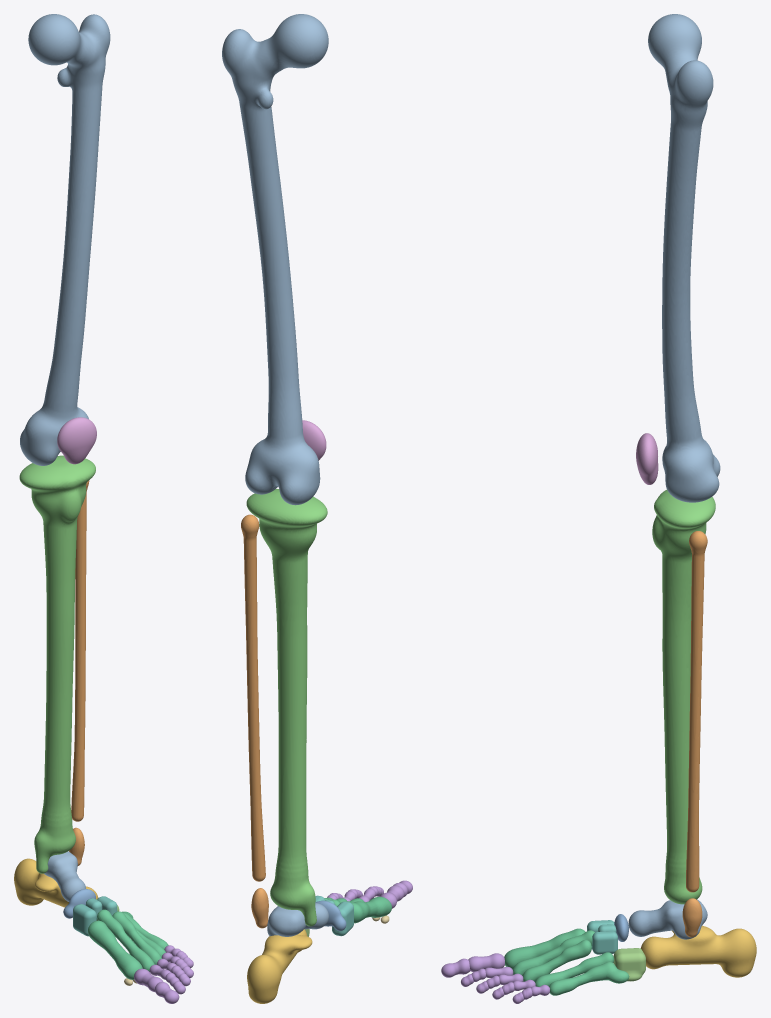
The model's file is esqueleto-pierna.glb.
3 renders of one model, left to right at view 1: azimuth 30°, elevation 25°; view 2: azimuth 150°, elevation 25°; view 3: azimuth 270°, elevation 25°, orthographic. The views are drawn at different scales.
Parts seen in each view (by area): view 1: femur_L, tibia_L, fibula_L, calcaneus_L, patella_L, metatarsal_1_L, talus_L, metatarsal_2_L, metatarsal_3_L, cuneiform_medial_L, navicular_L; view 2: femur_L, tibia_L, fibula_L, calcaneus_L, talus_L, metatarsal_1_L, patella_L, navicular_L; view 3: femur_L, tibia_L, fibula_L, calcaneus_L, talus_L, metatarsal_5_L, metatarsal_1_L, patella_L, metatarsal_3_L, cuboid_L, metatarsal_4_L, metatarsal_2_L.
Part boxes in pixels (x1,y1,x2,y2): femur_L: [20, 14, 110, 465]; tibia_L: [19, 455, 95, 873]; fibula_L: [69, 480, 89, 865]; calcaneus_L: [14, 858, 98, 907]; patella_L: [57, 417, 96, 464]; metatarsal_1_L: [88, 920, 142, 979]; talus_L: [44, 851, 85, 901]; metatarsal_2_L: [97, 909, 154, 971]; metatarsal_3_L: [112, 911, 161, 964]; cuneiform_medial_L: [73, 904, 96, 936]; navicular_L: [63, 889, 95, 918]; femur_L: [222, 14, 328, 505]; tibia_L: [246, 489, 327, 926]; fibula_L: [241, 514, 268, 928]; calcaneus_L: [247, 929, 312, 1003]; talus_L: [267, 903, 328, 936]; metatarsal_1_L: [351, 896, 391, 923]; patella_L: [302, 420, 326, 460]; navicular_L: [315, 900, 346, 931]; femur_L: [648, 14, 720, 502]; tibia_L: [652, 489, 715, 904]; fibula_L: [682, 531, 707, 937]; calcaneus_L: [640, 925, 756, 977]; talus_L: [628, 899, 707, 939]; metatarsal_5_L: [549, 961, 629, 995]; metatarsal_1_L: [504, 928, 585, 969]; patella_L: [636, 433, 658, 484]; metatarsal_3_L: [523, 940, 591, 981]; cuboid_L: [613, 948, 645, 981]; metatarsal_4_L: [535, 952, 614, 986]; metatarsal_2_L: [512, 930, 594, 975].
Bounding box in the file's own units: 0.0945 × 0.907 × 0.2708.
